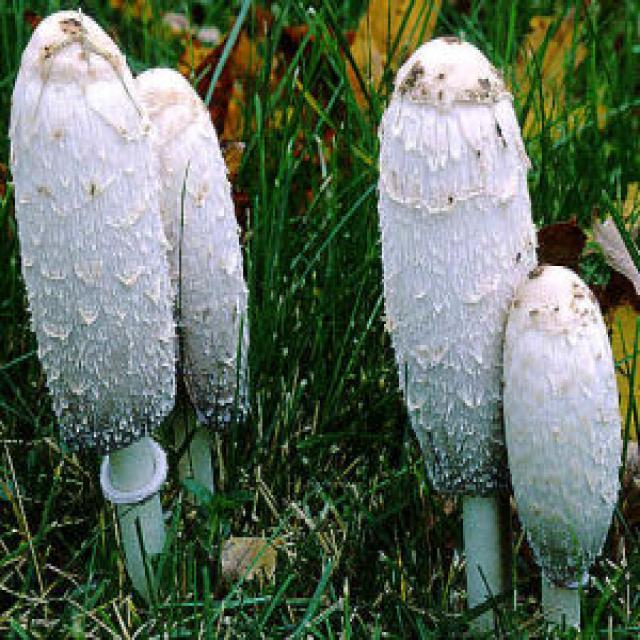Coprinus comatus: (13, 9, 178, 595), (377, 39, 537, 610), (113, 69, 256, 497), (502, 268, 621, 629)
